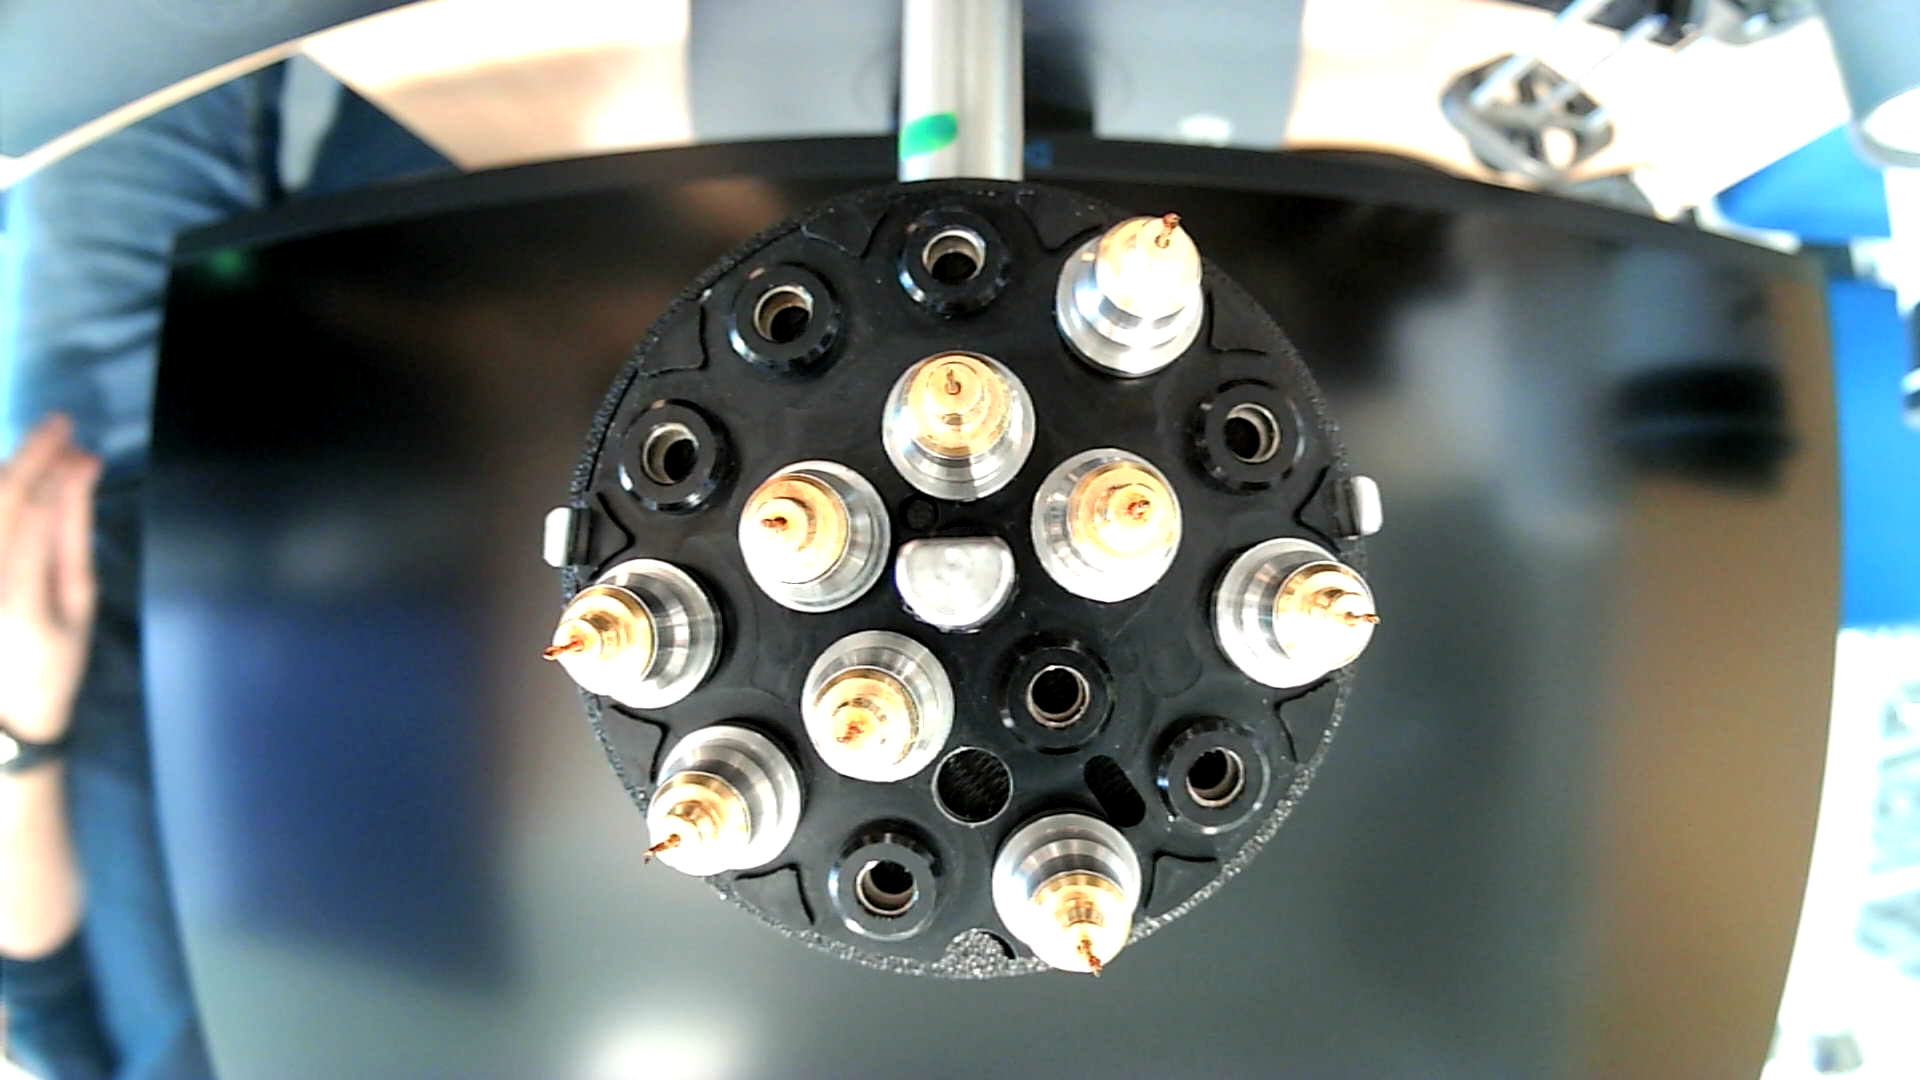empty: (825, 812, 949, 945), (990, 632, 1120, 756), (615, 392, 740, 517), (725, 257, 852, 381), (1185, 378, 1309, 502), (898, 200, 1013, 330), (1156, 717, 1273, 837)
hole: (926, 742, 1019, 832)
pin: (543, 550, 728, 704), (986, 804, 1143, 978), (637, 715, 803, 877), (1209, 535, 1381, 692), (1054, 210, 1205, 382), (796, 626, 956, 783), (881, 347, 1040, 504), (735, 455, 890, 615), (1030, 448, 1184, 607)
rod: (891, 534, 1022, 636)
